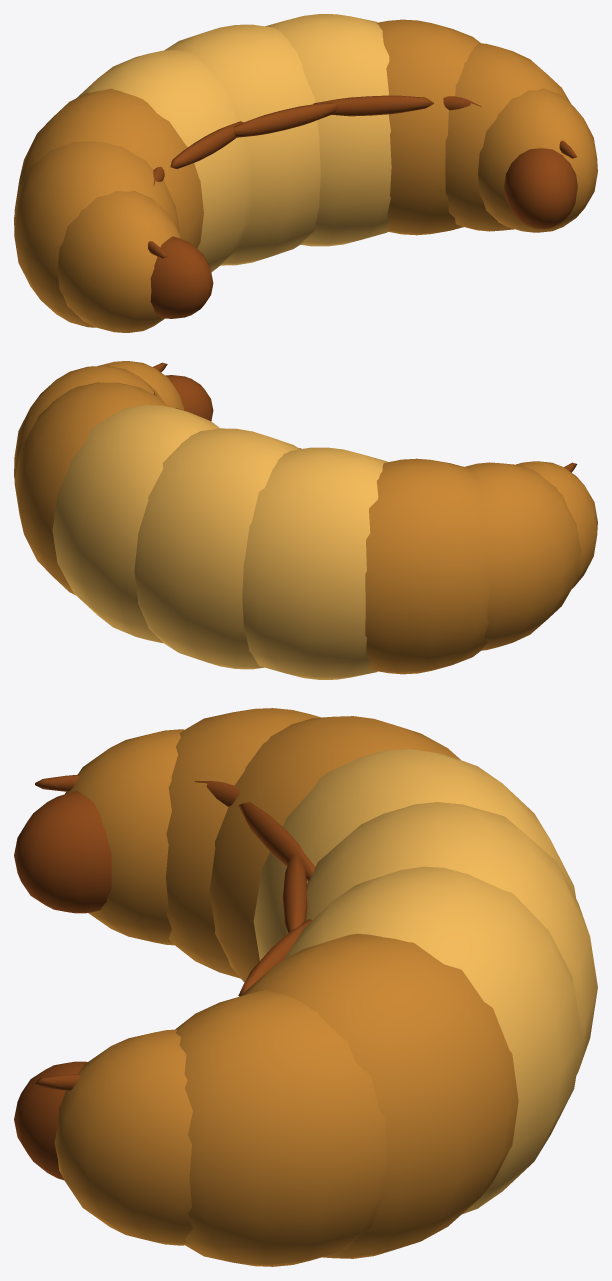
File: croissant.glb
3 views of the same model, one above another, from view 1: azimuth 30°, elevation 25°; view 2: azimuth 150°, elevation 25°; view 3: azimuth 270°, elevation 25° (orthographic). The views are drawn at different scales.
Parts seen in each view (by area): view 1: croissant; view 2: croissant; view 3: croissant.
Boxes of the visible parts, left/top/right/bottom form: croissant: left=14, top=14, right=597, bottom=332; croissant: left=14, top=361, right=597, bottom=679; croissant: left=14, top=708, right=597, bottom=1266.
Size of the model in its own units: 1 by 0.3943 by 0.6319.
